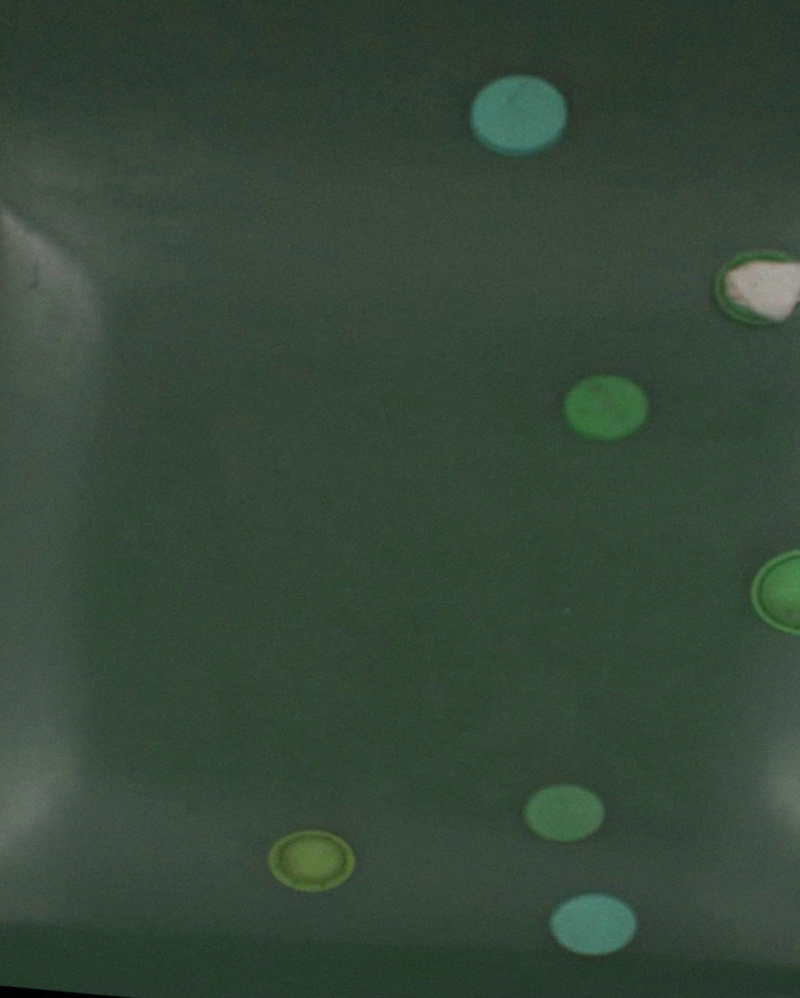Others: (462, 72, 575, 161), (706, 248, 800, 328), (556, 371, 657, 443), (544, 889, 646, 959), (263, 826, 362, 895), (517, 780, 612, 843), (740, 543, 800, 641)
